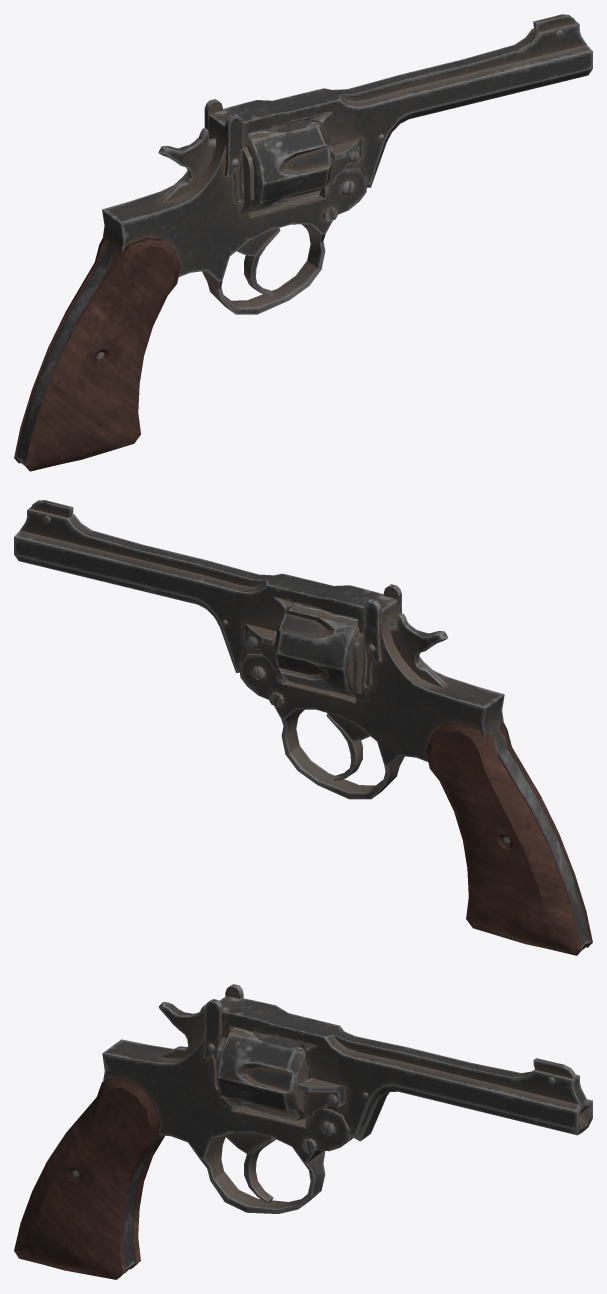
The model's file is SM_weapon_handgun.fbx.
3 views of the same model, one above another, from view 1: azimuth 30°, elevation 25°; view 2: azimuth 150°, elevation 25°; view 3: azimuth 330°, elevation 25° (orthographic).
Visible parts, largest first — view 1: weapon_handgun; view 2: weapon_handgun; view 3: weapon_handgun.
Boxes of the visible parts, left/top/right/bottom form: weapon_handgun: left=14, top=14, right=592, bottom=471; weapon_handgun: left=14, top=500, right=592, bottom=955; weapon_handgun: left=14, top=984, right=592, bottom=1279.
Bounding box in the file's own units: 30.08 × 16.28 × 4.21.
